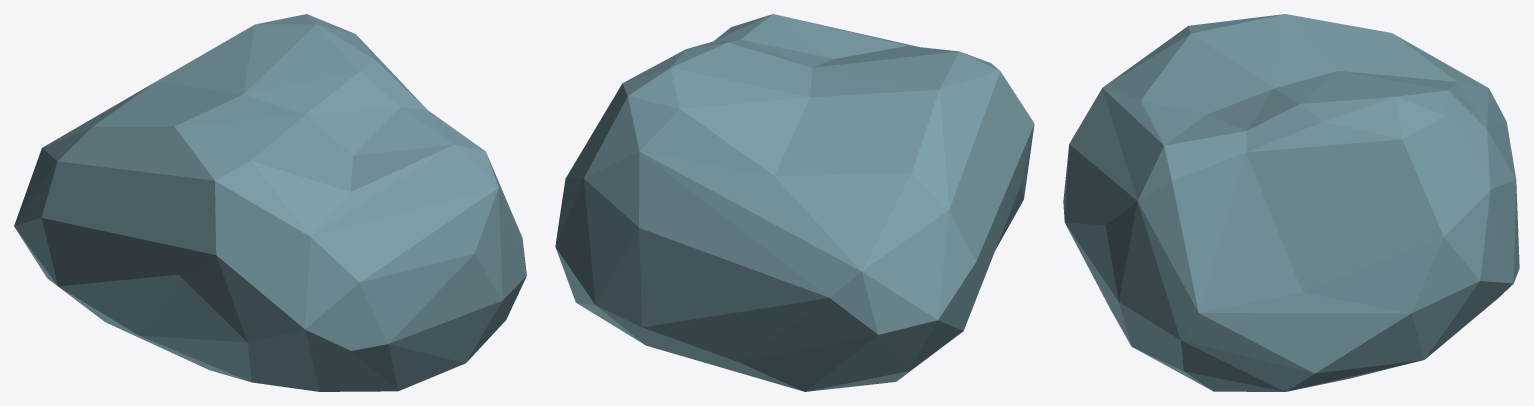
The picture shows the model from 3 angles, left to right: view 1: azimuth 30°, elevation 25°; view 2: azimuth 150°, elevation 25°; view 3: azimuth 270°, elevation 25°; orthographic projection. The views are drawn at different scales.
Visible parts, largest first — view 1: Sphere; view 2: Sphere; view 3: Sphere.
Boxes of the visible parts, x1,y1,x2,y2 form: Sphere: [14, 14, 526, 391]; Sphere: [555, 14, 1034, 391]; Sphere: [1063, 14, 1519, 391].
Size of the model in its own units: 203 by 130 by 204.
